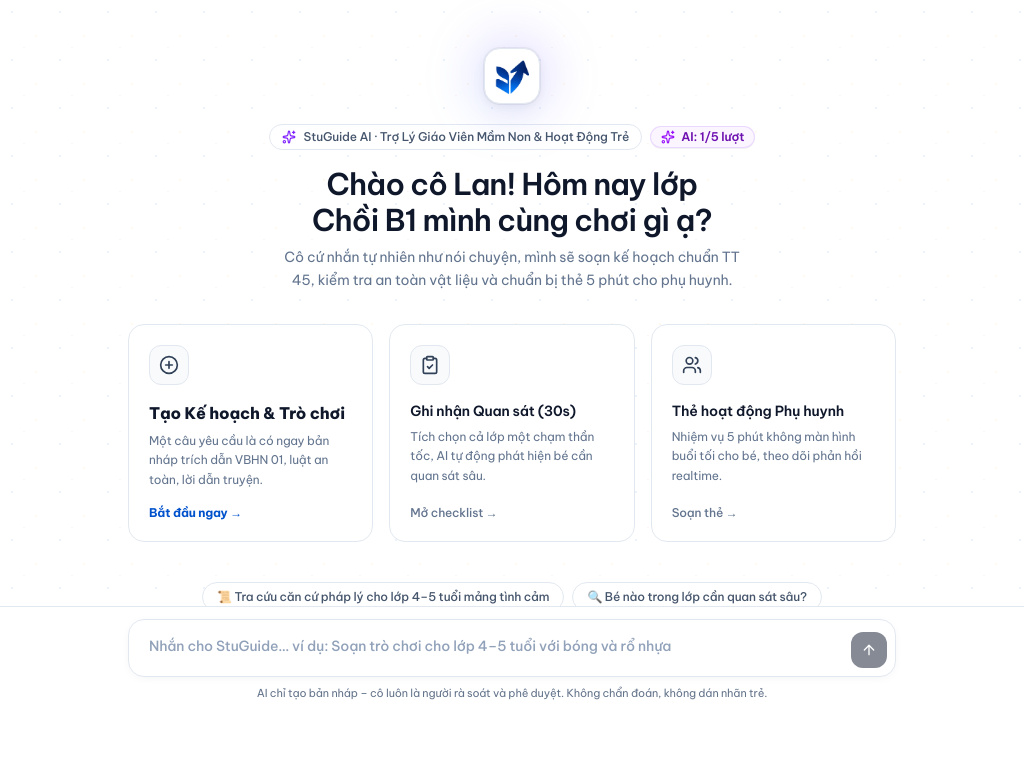
Test: ChatWorkspace – thông báo lỗi khi gửi tin › lỗi server 500: hiện câu chung, không lộ chi tiết kỹ thuật
The width and height of the screenshot is (1024, 768).
Type "Soạn trò chơi vận động" into the text box labelled "Nhắn cho StuGuide" at (490, 648), box [137,628,843,668]
Then press Enter
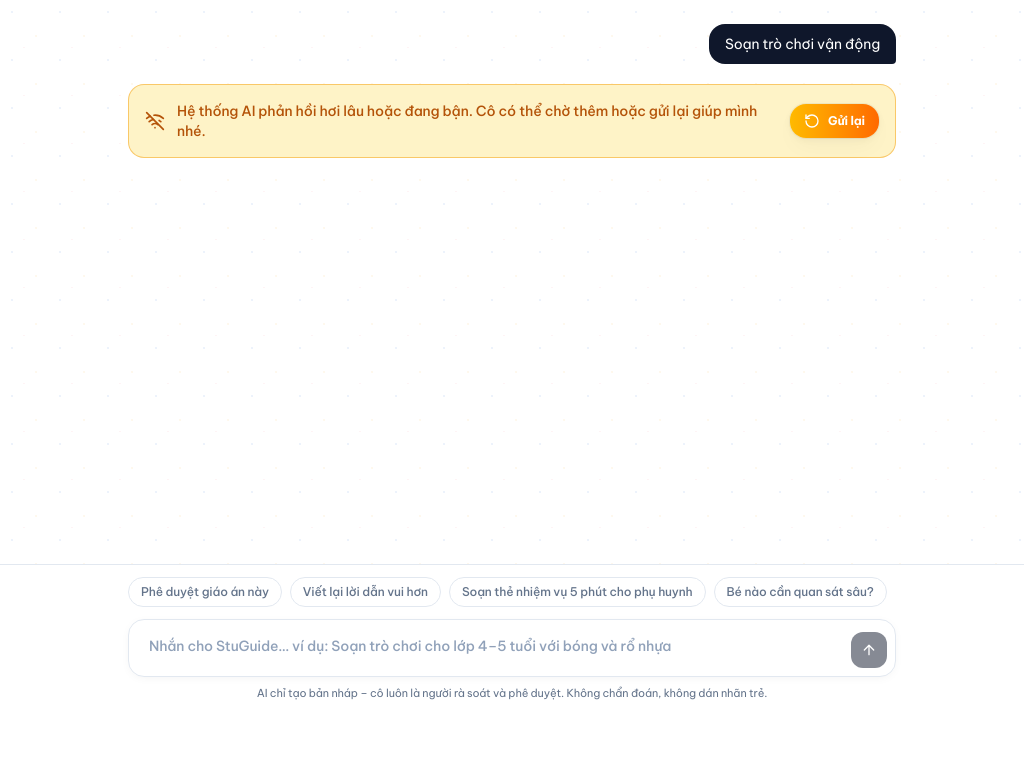
Check: the message shows "Hệ thống AI phản hồi hơi lâu hoặc đang bận", box [177,102,757,140]
